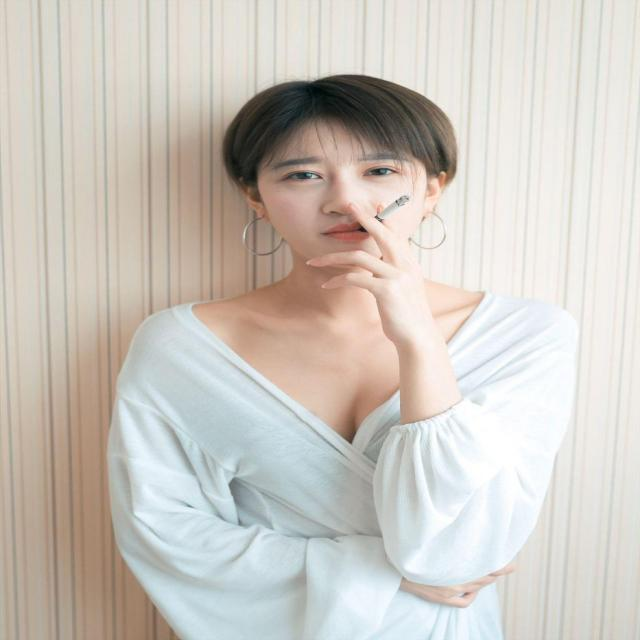cigarette: (344, 164, 442, 246)
